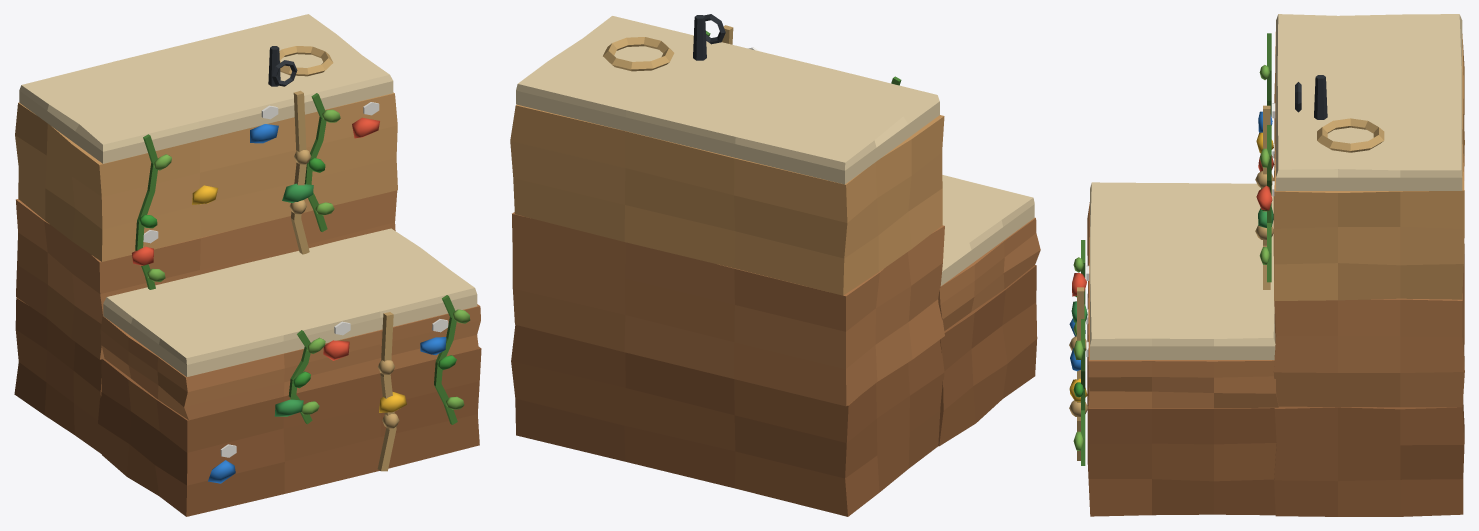
The model's file is climb_wall.glb.
3 renders of one model, left to right at view 1: azimuth 30°, elevation 25°; view 2: azimuth 150°, elevation 25°; view 3: azimuth 270°, elevation 25°, orthographic. The views are drawn at different scales.
Parts seen in each view (by area): view 1: climb_wall; view 2: climb_wall; view 3: climb_wall.
Boxes of the visible parts, left/top/right/bottom form: climb_wall: left=14, top=14, right=481, bottom=516; climb_wall: left=510, top=14, right=1040, bottom=516; climb_wall: left=1069, top=14, right=1464, bottom=516.
Size of the model in its own units: 1.03 by 1.14 by 1.06.
